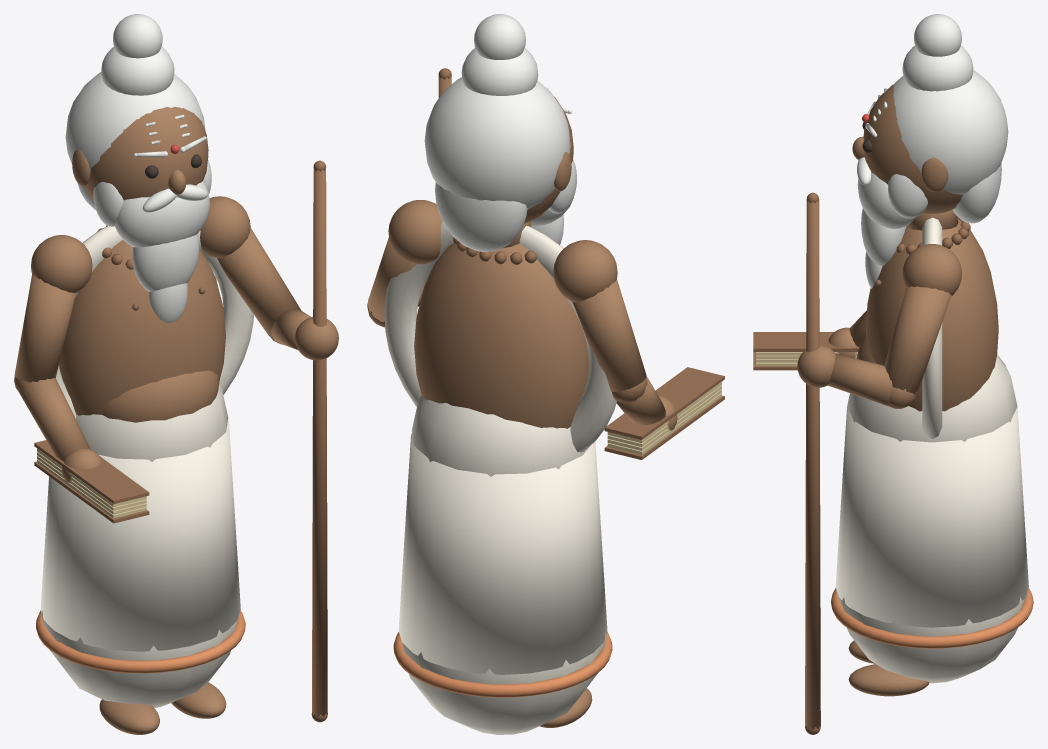
Rendered from valluvar_walk.glb.
3 renders of one model, left to right at view 1: azimuth 30°, elevation 25°; view 2: azimuth 150°, elevation 25°; view 3: azimuth 270°, elevation 25°, orthographic. The views are drawn at different scales.
Parts seen in each view (by area): view 1: Valluvar; view 2: Valluvar; view 3: Valluvar.
Part boxes in pixels (x1,y1,x2,y2): Valluvar: (14,14,338,734); Valluvar: (367,14,724,734); Valluvar: (753,14,1033,734).
Bounding box in the file's own units: 1.08 × 2.57 × 0.987.
